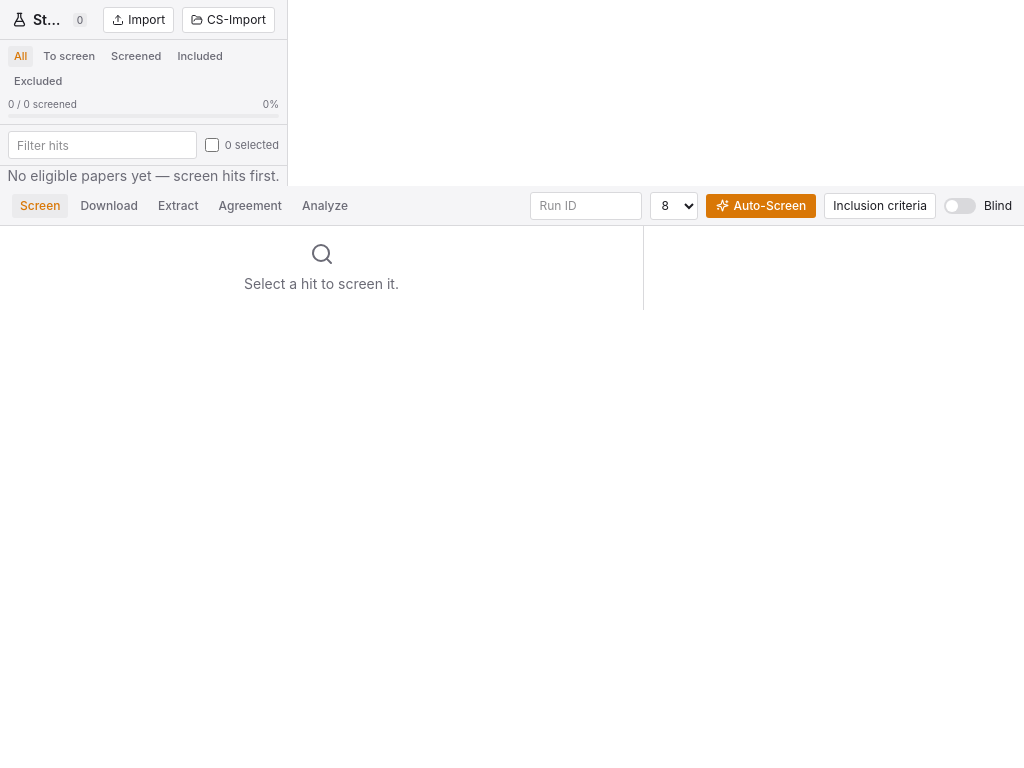
MetaView search-results import › opens the import dialog and previews a selected file
This screenshot has width=1024, height=768.
Click the button "Import" at (139, 20), box x1=103 y1=6 x2=174 y2=32
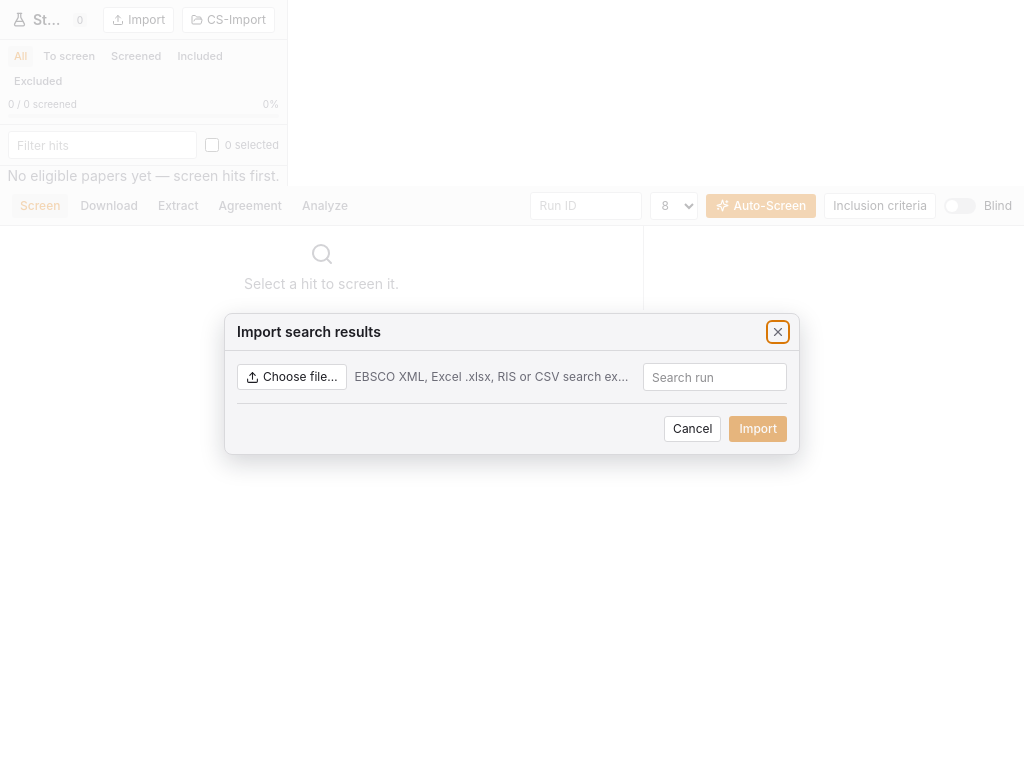
Expected: the element that starts with "Choose file…" is shown, x1=237 y1=363 x2=787 y2=391
